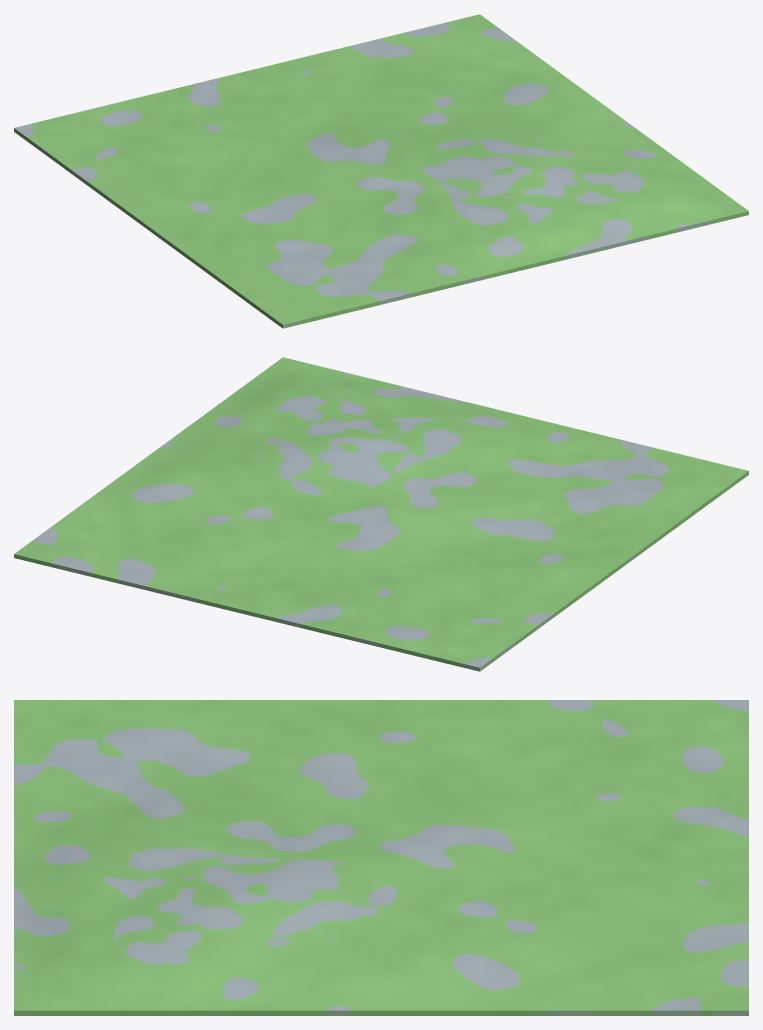
Rendered from Grass_RockyGround_01.obj.
3 renders of one model, top to bottom at view 1: azimuth 30°, elevation 25°; view 2: azimuth 150°, elevation 25°; view 3: azimuth 270°, elevation 25°, orthographic. The views are drawn at different scales.
Bounding box in the file's own units: 10 × 0.3568 × 10.
1 material, 1 textured.
